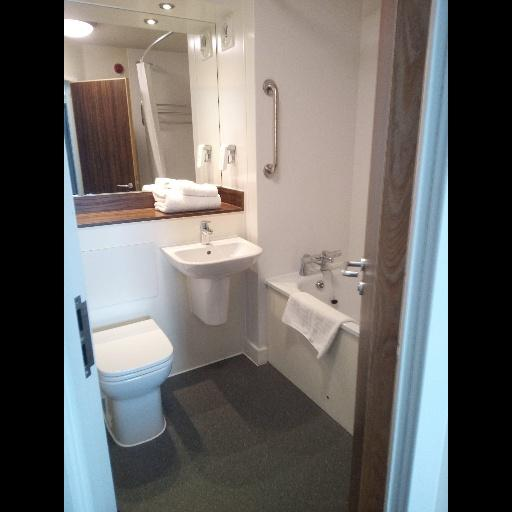clean mirror: (65, 0, 226, 192)
clean_bathtub: (267, 250, 365, 434)
clean_floor: (112, 353, 356, 510)
clean_sink: (163, 217, 272, 332)
clean_toilet: (87, 313, 180, 448)
folded_towel: (275, 282, 358, 348), (153, 173, 232, 219)
